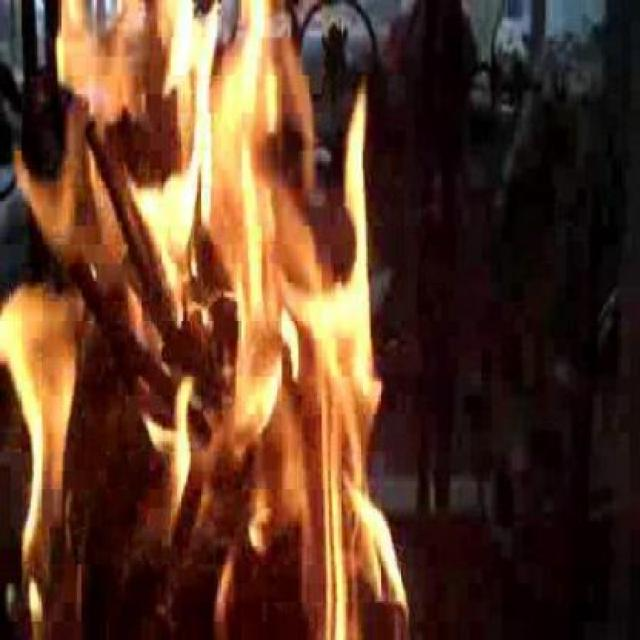Fire: (0, 0, 414, 638)
